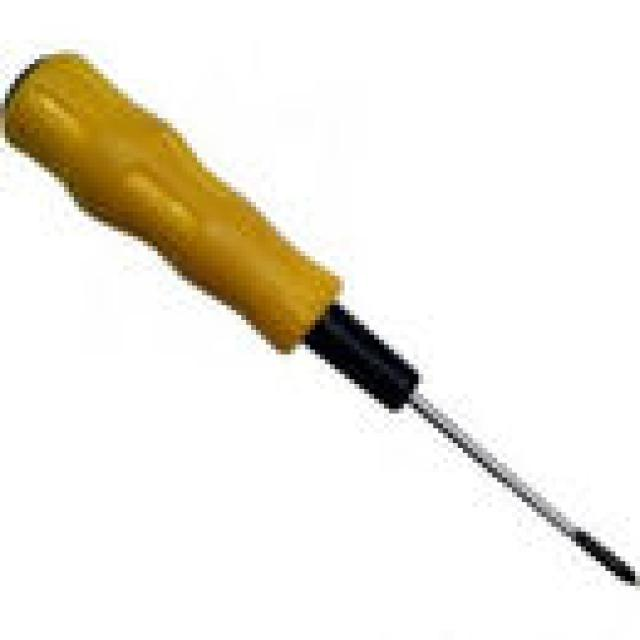Screwdriver: (9, 54, 638, 583)
